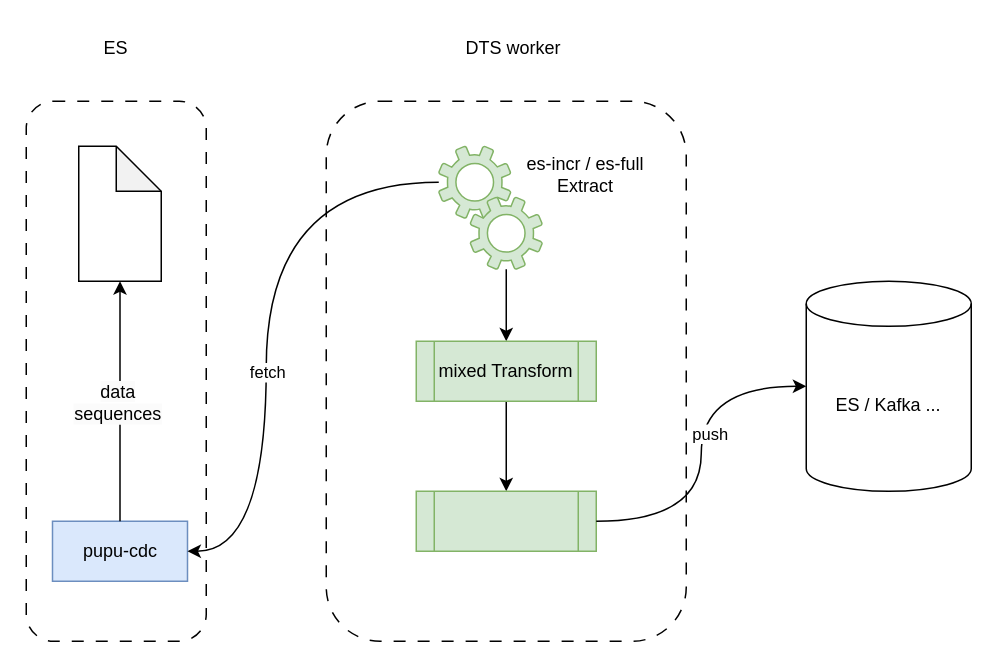
Image size: 998x668. Some labels were removed from this diagram. The centre of each missing label's shape, as x and y in pixels:
ES / Kafka Load: the point at 505,520
lucene: the point at 119,213
